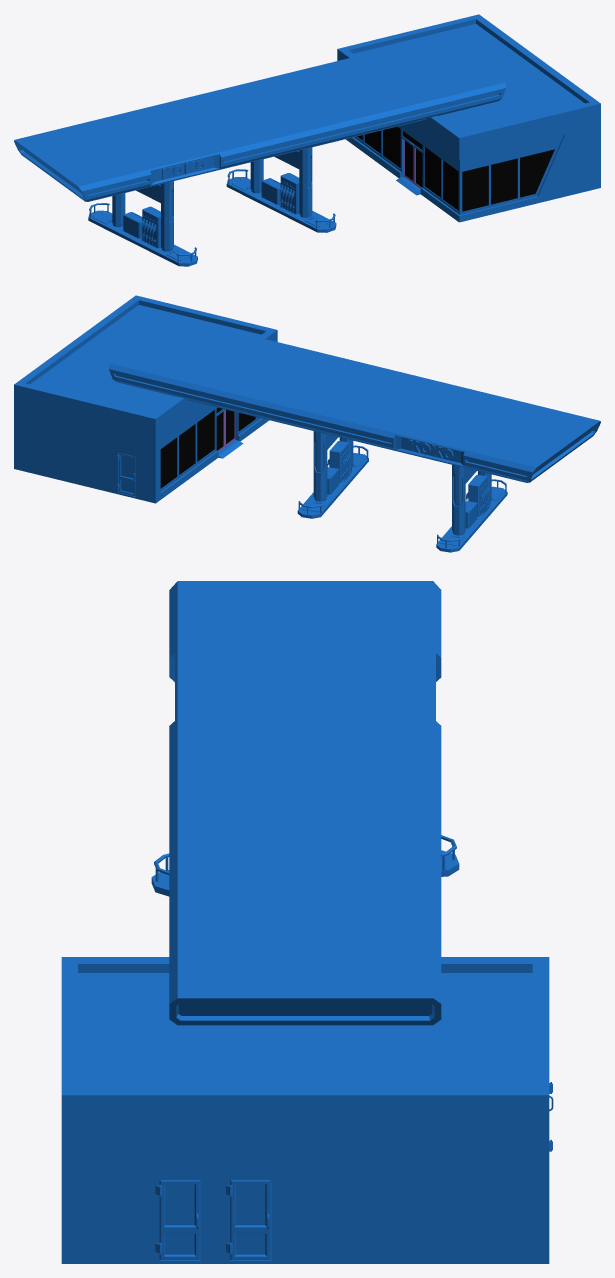
The model's file is HALF_gas_station.fbx.
3 renders of one model, top to bottom at view 1: azimuth 30°, elevation 25°; view 2: azimuth 150°, elevation 25°; view 3: azimuth 270°, elevation 25°, orthographic. The views are drawn at different scales.
Parts seen in each view (by area): view 1: Boole, Cube; view 2: Boole, Cube_1; view 3: Boole.
Boxes of the visible parts, <box> form: Boole: <box>14,14,600,266</box>; Cube: <box>404,140,414,183</box>; Boole: <box>14,295,600,552</box>; Cube_1: <box>225,409,235,446</box>; Boole: <box>61,581,553,1263</box>.
Bounding box in the file's own units: 2906 × 563 × 1249.
